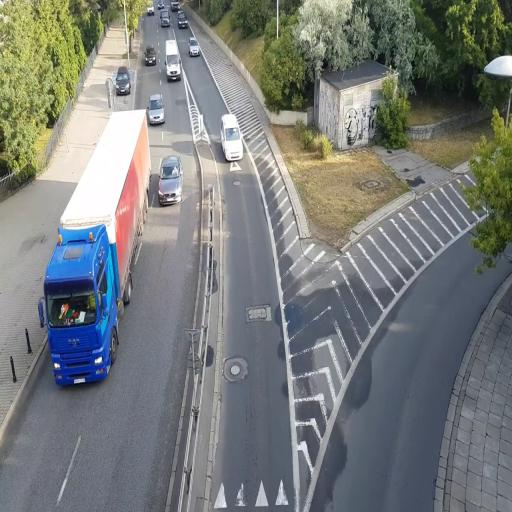vehicle: (39, 109, 151, 387), (158, 154, 182, 206), (221, 113, 243, 164), (165, 45, 182, 82), (147, 94, 165, 124), (114, 68, 131, 95), (143, 45, 157, 67), (159, 8, 171, 28), (188, 38, 200, 57), (177, 16, 188, 30)
